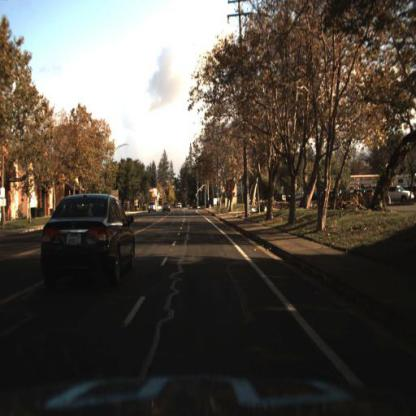car: (40, 191, 139, 294), (389, 188, 414, 203), (163, 201, 172, 215), (150, 203, 158, 213), (194, 203, 199, 210), (178, 204, 183, 209)
